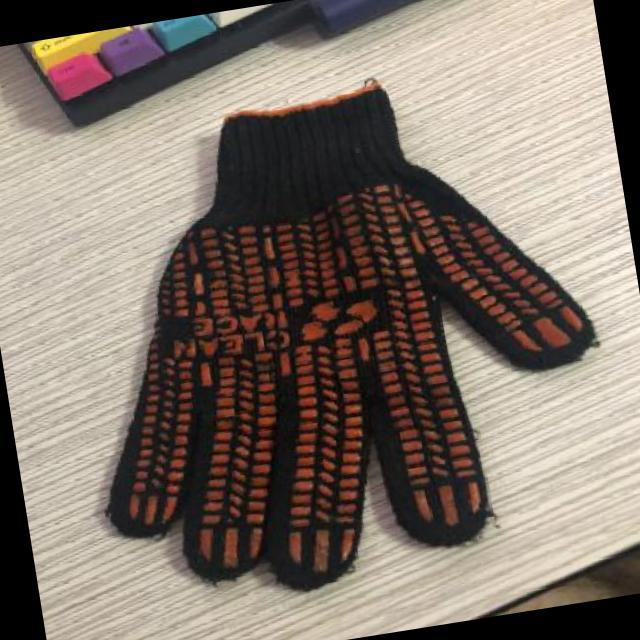glove: (99, 75, 597, 574)
